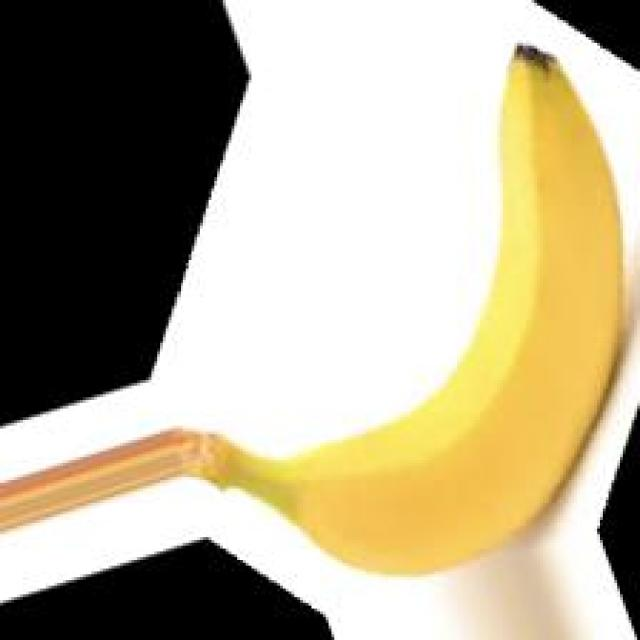banana: (176, 51, 640, 578)
